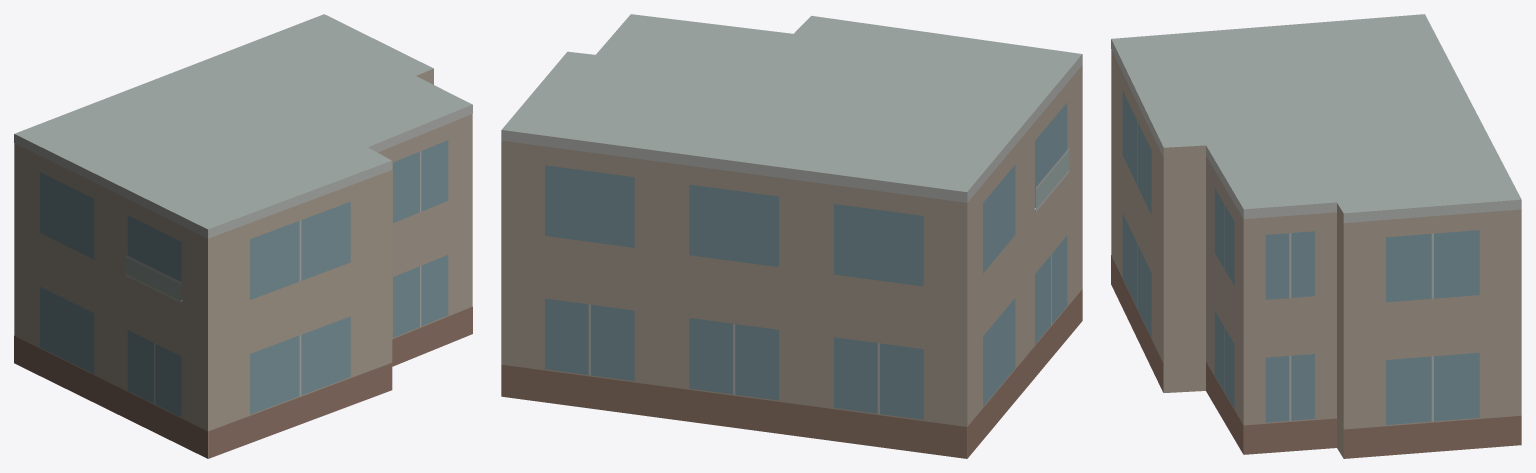
Rendered from survey-upis-32710281.glb.
3 renders of one model, left to right at view 1: azimuth 30°, elevation 25°; view 2: azimuth 150°, elevation 25°; view 3: azimuth 270°, elevation 25°, orthographic. The views are drawn at different scales.
Visible parts, largest first — view 1: survey-upis-32710281.tmp; view 2: survey-upis-32710281.tmp; view 3: survey-upis-32710281.tmp.
Boxes of the visible parts, x1,y1,x2,y2 form: survey-upis-32710281.tmp: (14,14,472,458); survey-upis-32710281.tmp: (501,14,1082,458); survey-upis-32710281.tmp: (1111,14,1521,458).
Bounding box in the file's own units: 10.64 × 6.1 × 9.26.
